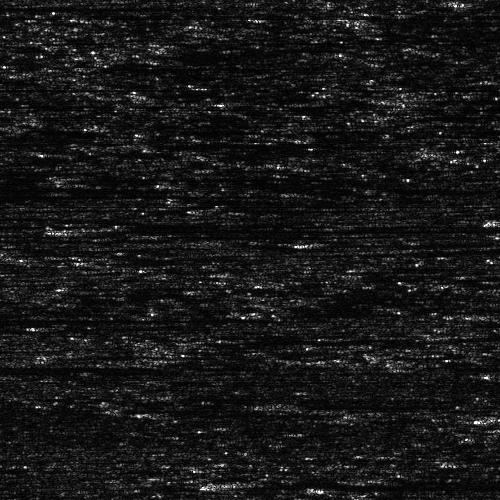rock: (251, 8, 470, 29), (413, 405, 500, 428), (456, 213, 500, 228), (259, 399, 322, 408), (204, 480, 267, 487), (0, 358, 23, 375), (79, 225, 132, 232)
shadow: (361, 8, 500, 29), (106, 225, 500, 232), (0, 358, 118, 375), (236, 480, 500, 487), (0, 0, 117, 14), (291, 399, 449, 408), (0, 187, 74, 200), (0, 184, 37, 199)
